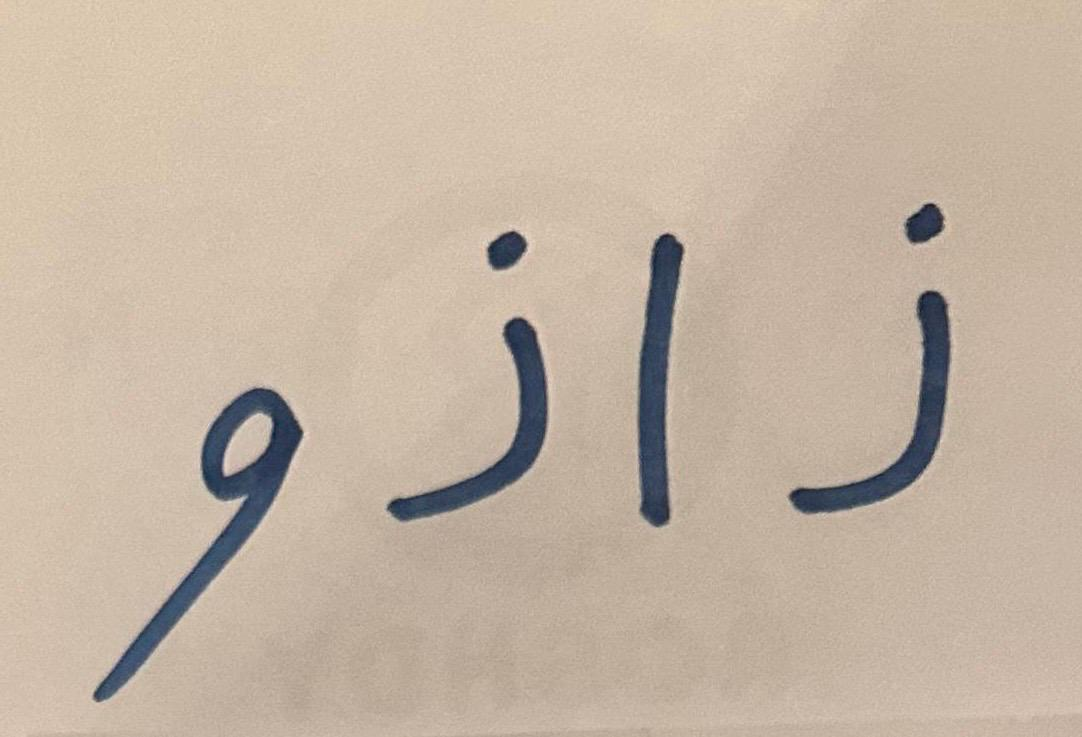ain: (770, 130, 1042, 589), (356, 127, 597, 615)
alef: (600, 102, 766, 630)
yeh: (65, 298, 353, 713)
